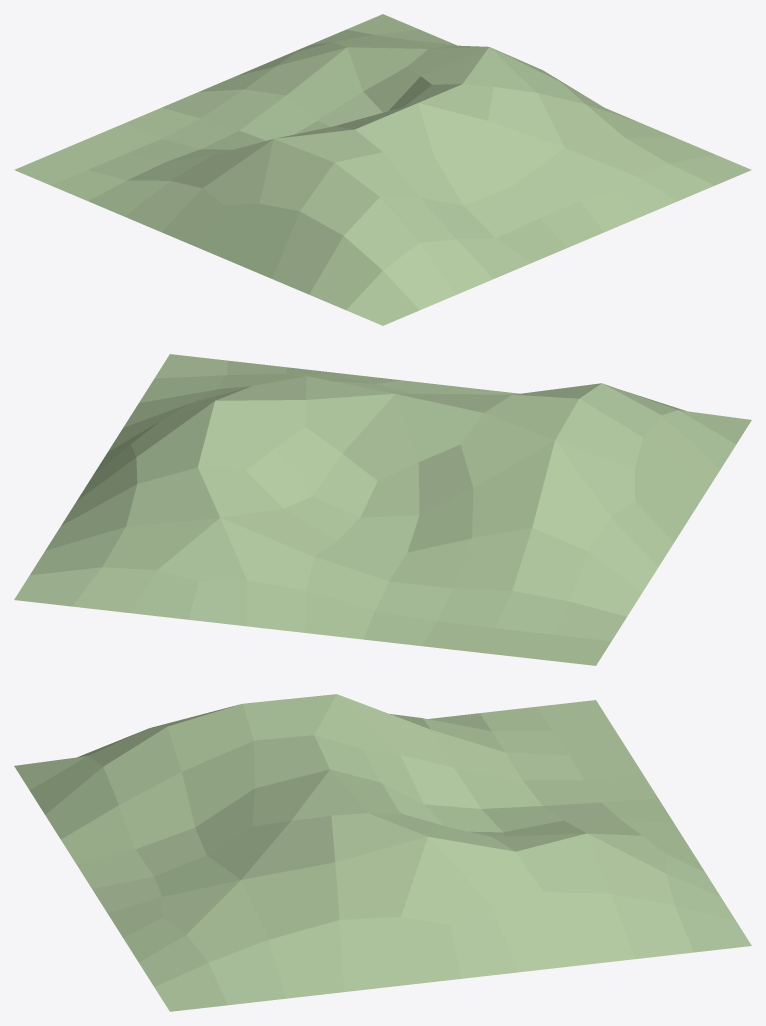
File: ER_Asset_Hill.fbx
The picture shows the model from 3 angles, top to bottom: view 1: azimuth 30°, elevation 25°; view 2: azimuth 150°, elevation 25°; view 3: azimuth 270°, elevation 25°; orthographic projection. The views are drawn at different scales.
Visible parts, largest first — view 1: pPlane14; view 2: pPlane14; view 3: pPlane14.
Part boxes in pixels (bbox=[...]): pPlane14: bbox=[14, 14, 751, 325]; pPlane14: bbox=[14, 354, 751, 665]; pPlane14: bbox=[14, 694, 751, 1011].
Size of the model in its own units: 17.69 by 2.47 by 17.69.
